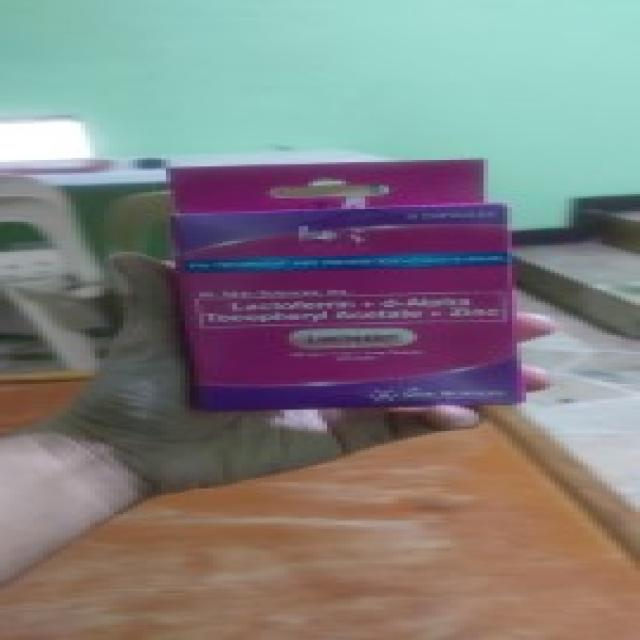Cacat: (168, 157, 524, 406)
